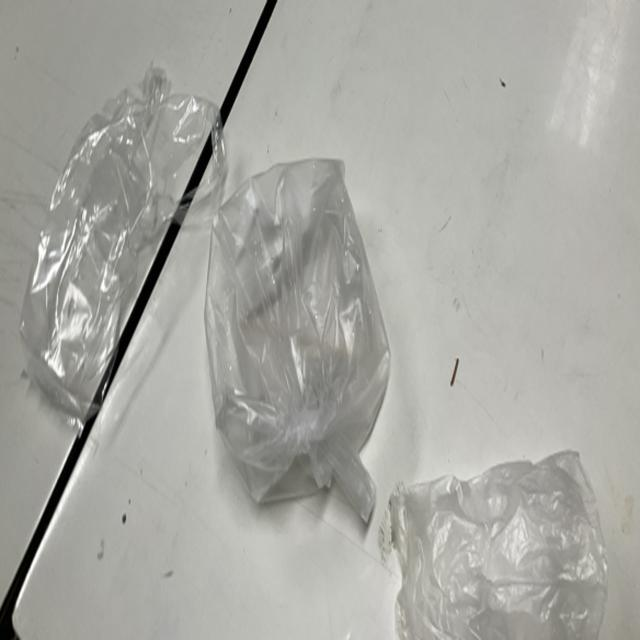Single-layer Plastic: (20, 68, 225, 426), (205, 159, 390, 522), (382, 452, 608, 640)
